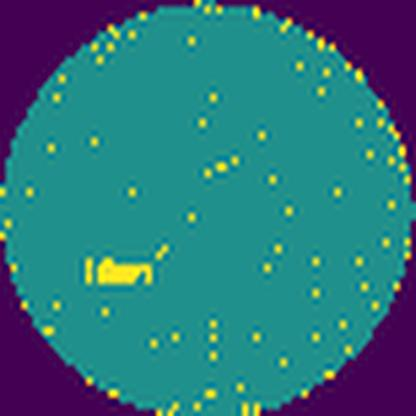Loc: (94, 256, 156, 289)
